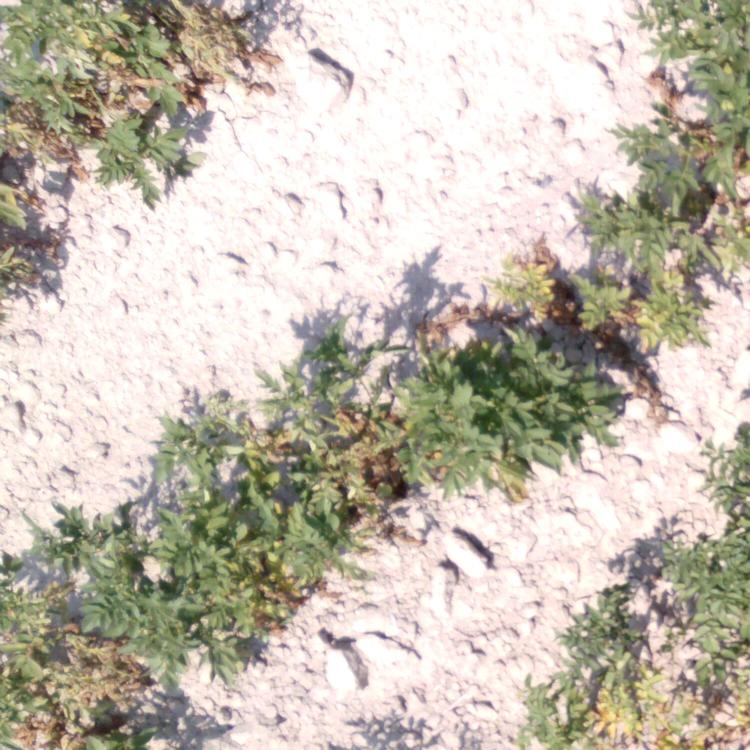healthy: (439, 352, 578, 454), (656, 7, 739, 175), (670, 422, 747, 598)
stressed: (5, 542, 199, 736), (539, 192, 750, 352), (1, 1, 255, 107), (555, 608, 745, 741), (204, 408, 324, 613), (5, 114, 86, 295), (348, 378, 424, 517), (91, 110, 185, 190)
